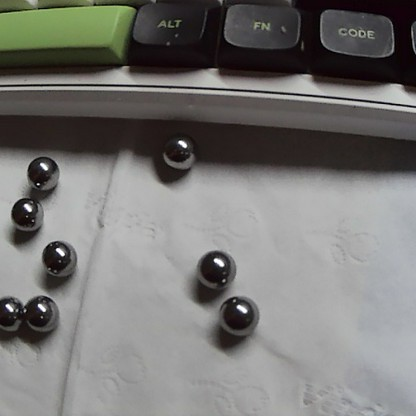ironball: (208, 292, 268, 341), (192, 241, 241, 288), (38, 233, 77, 276), (157, 133, 197, 172), (5, 192, 40, 236), (20, 290, 55, 333), (20, 155, 58, 188), (0, 291, 26, 339)
